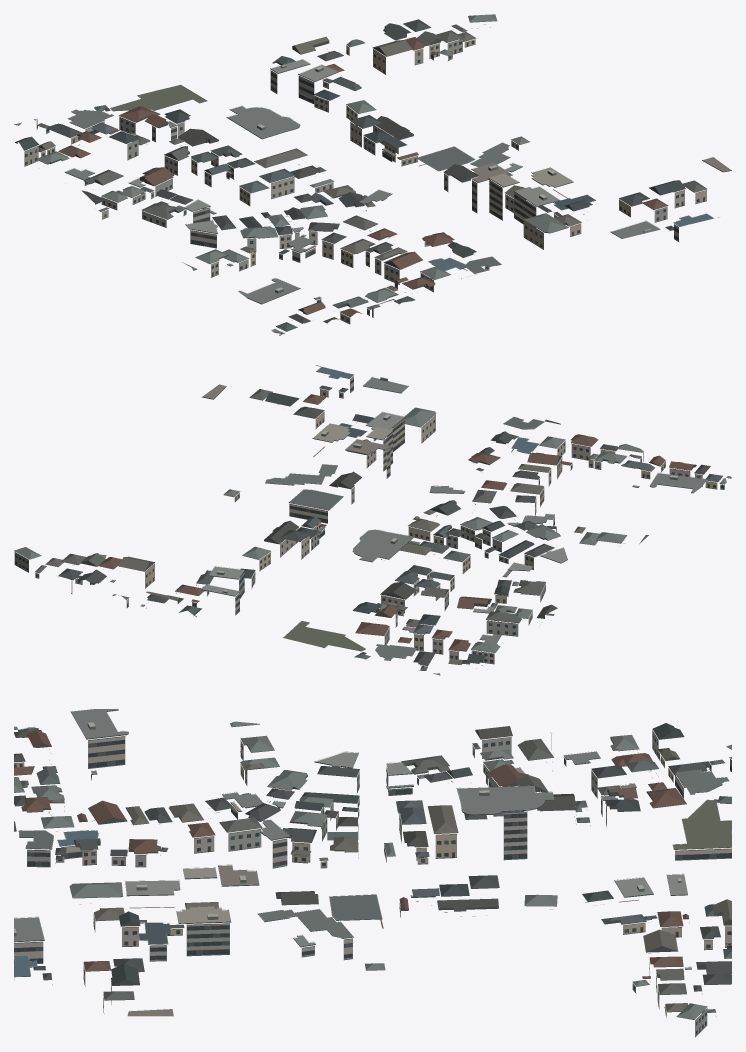
3 views of the same model, one above another, from view 1: azimuth 30°, elevation 25°; view 2: azimuth 150°, elevation 25°; view 3: azimuth 270°, elevation 25° (orthographic). The views are drawn at different scales.
Parts seen in each view (by area): view 1: r5-c7; view 2: r5-c7; view 3: r5-c7.
Boxes of the visible parts, bbox=[...] form: r5-c7: bbox=[14, 14, 731, 335]; r5-c7: bbox=[14, 365, 731, 675]; r5-c7: bbox=[14, 708, 731, 1037].
Size of the model in its own units: 250 by 24.09 by 250.
